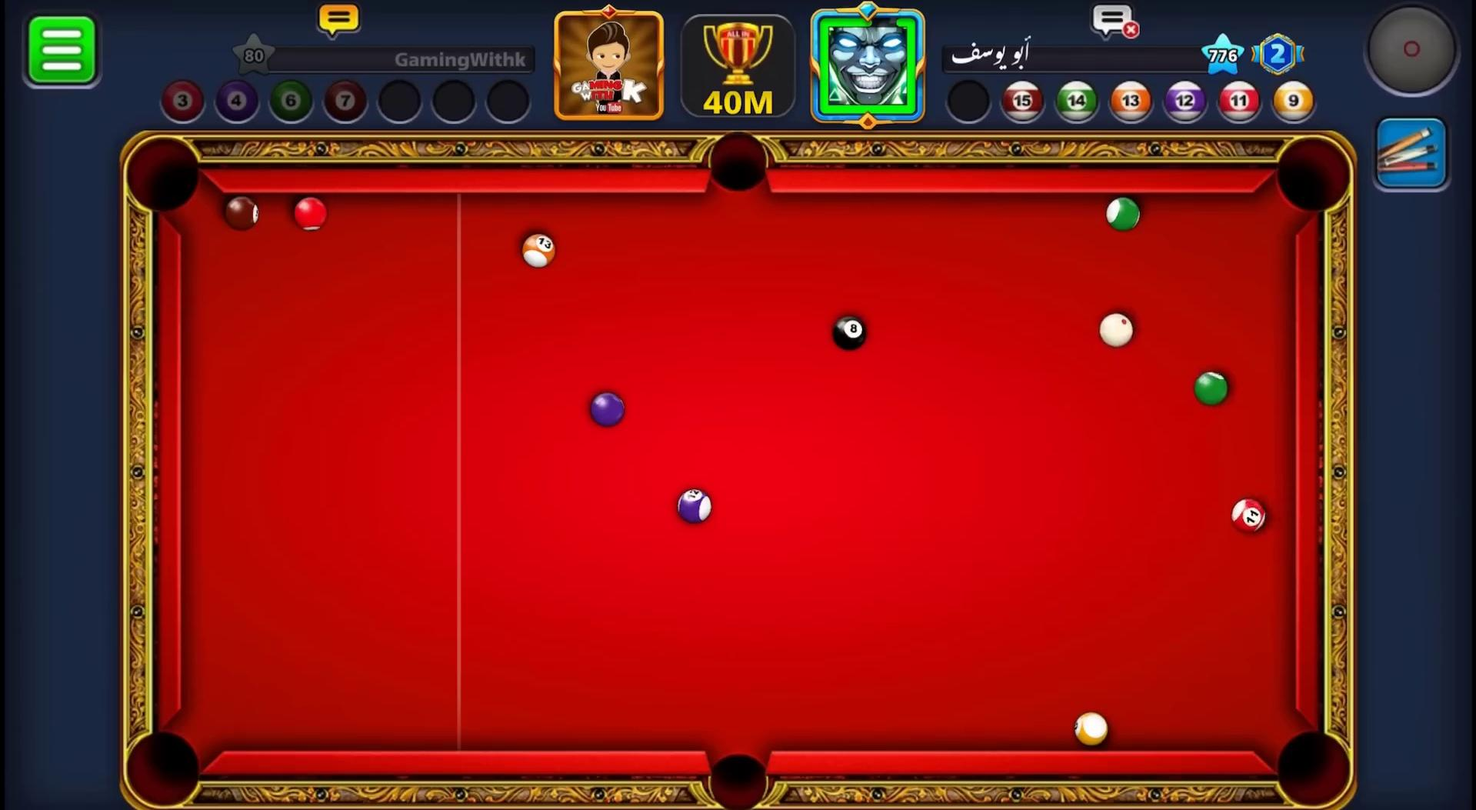Ball: (585, 389, 631, 433), (1099, 195, 1148, 235), (520, 230, 561, 274), (1068, 710, 1116, 747), (1191, 366, 1232, 409), (828, 312, 870, 353), (291, 193, 330, 237), (221, 195, 263, 233), (675, 487, 718, 524), (1231, 493, 1268, 534)
Hole: (1273, 135, 1350, 213), (1277, 729, 1354, 804), (126, 730, 202, 805), (124, 136, 200, 211), (704, 754, 770, 810), (708, 132, 768, 191)
Play_Area: (182, 195, 1295, 752)
Spin: (1360, 8, 1461, 100)
White: (1094, 307, 1136, 349)
